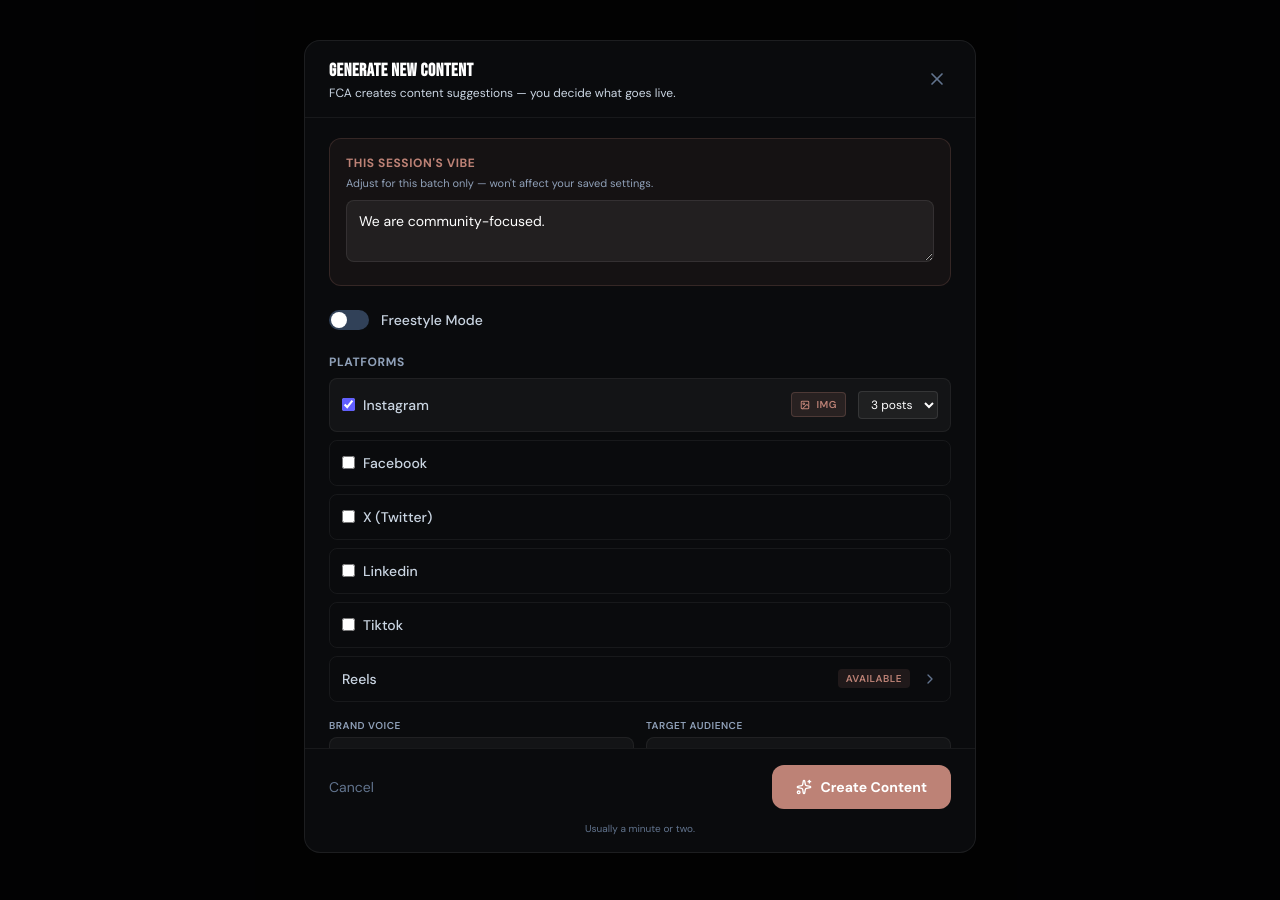
Test: WO-4: a flagged delivery is "Check before posting" + one reason line + one Regenerate › 202 → flagged row: the label, the approved banned_phrase line, Regenerate and Open — and no promise of review
The width and height of the screenshot is (1280, 900).
Click the button "Create Content": {"x": 862, "y": 787} [772,765,951,809]
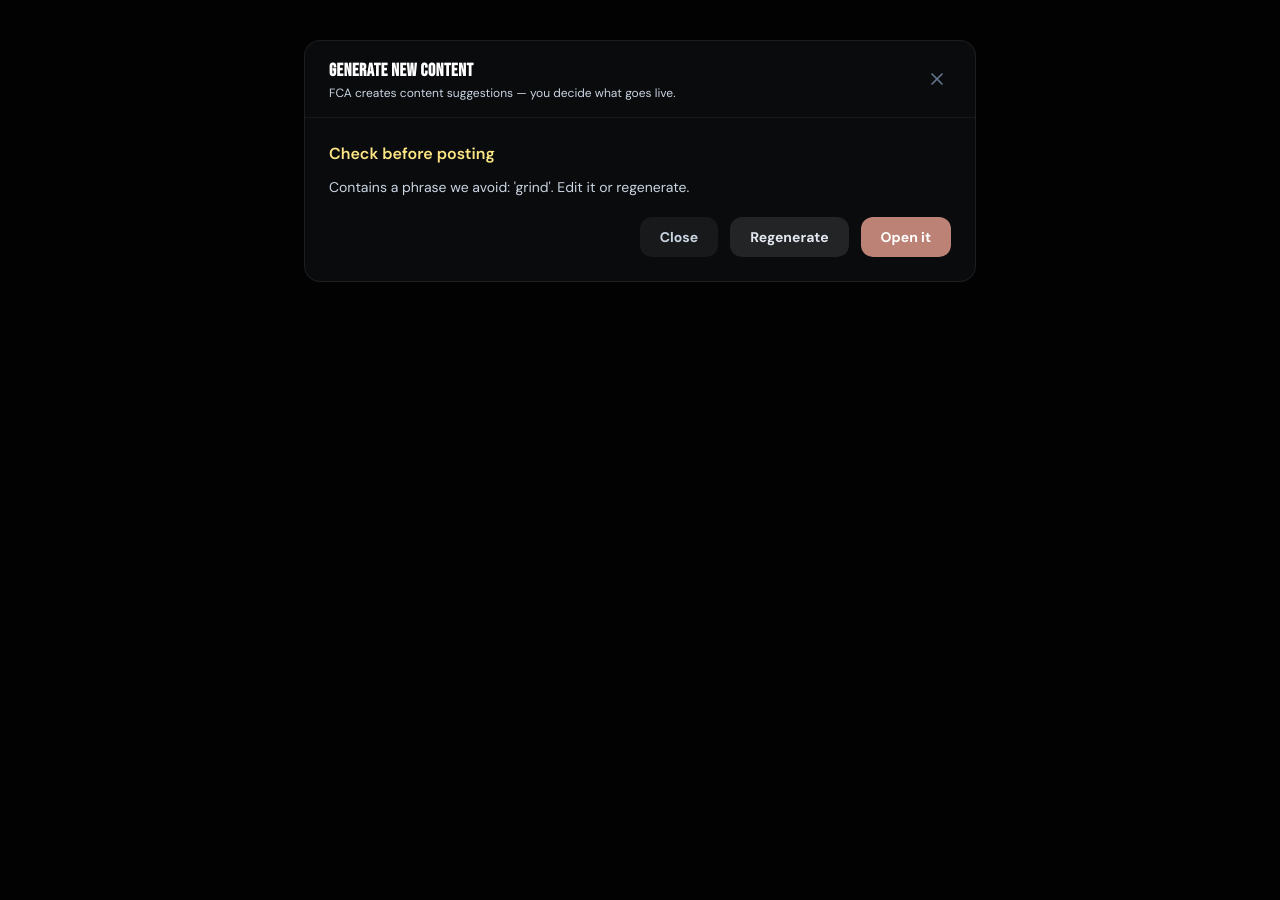
Check: the heading "Check before posting" is shown, box [329,143,495,164]
Check: the text "Contains a phrase we avoid: 'grind'. Edit it or regenerate." is shown, box [329,178,689,196]
Check: the button "Regenerate" is shown, box [730,217,849,257]
